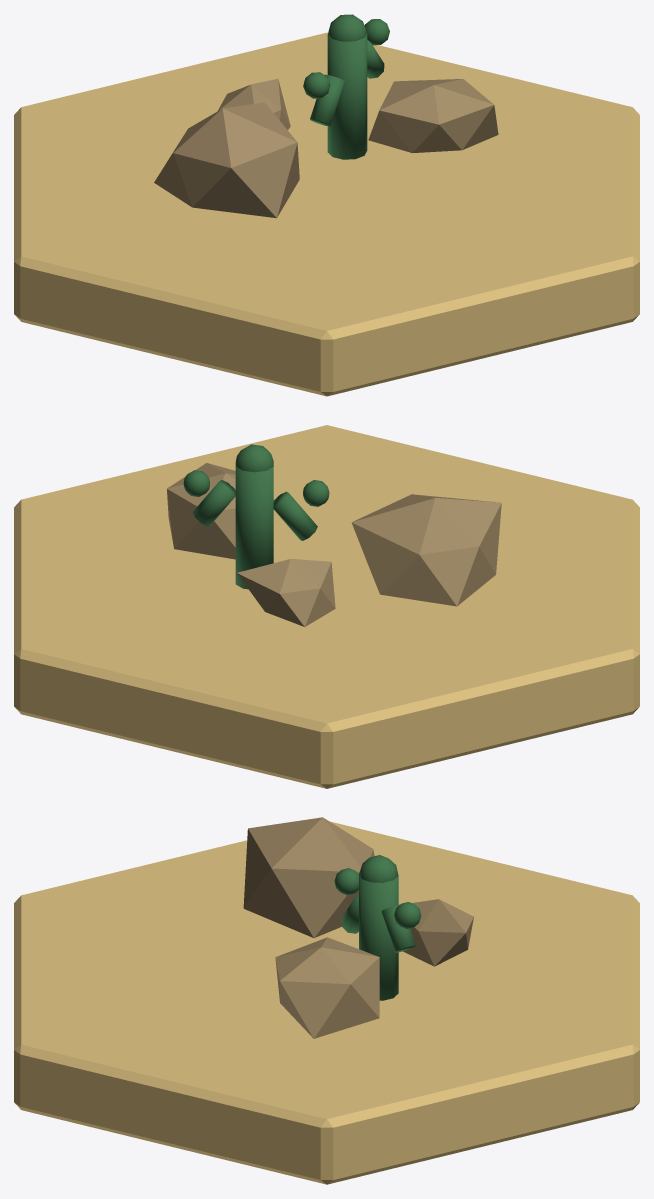
Rendered from desert.glb.
3 views of the same model, one above another, from view 1: azimuth 30°, elevation 25°; view 2: azimuth 150°, elevation 25°; view 3: azimuth 270°, elevation 25° (orthographic).
Visible parts, largest first — view 1: Hex_desert, Icosphere, Icosphere.001, Cylinder, Icosphere.002, Cylinder.001, Icosphere.003, Icosphere.004; view 2: Hex_desert, Icosphere, Icosphere.002, Icosphere.001, Cylinder, Cylinder.001, Cylinder.002, Icosphere.003, Icosphere.005, Icosphere.004; view 3: Hex_desert, Icosphere, Icosphere.001, Cylinder, Icosphere.002, Icosphere.003, Cylinder.002, Icosphere.005, Icosphere.004.
Boxes of the visible parts, x1,y1,x2,y2 form: Hex_desert: [14, 32, 639, 396]; Icosphere: [154, 102, 299, 218]; Icosphere.001: [368, 79, 498, 153]; Cylinder: [327, 33, 367, 159]; Icosphere.002: [218, 78, 290, 129]; Cylinder.001: [310, 74, 344, 126]; Icosphere.003: [327, 14, 367, 41]; Icosphere.004: [303, 72, 330, 98]; Hex_desert: [14, 425, 639, 788]; Icosphere: [351, 494, 501, 606]; Icosphere.002: [237, 559, 335, 626]; Icosphere.001: [167, 463, 235, 559]; Cylinder: [235, 466, 273, 589]; Cylinder.001: [273, 491, 317, 540]; Cylinder.002: [192, 480, 235, 526]; Icosphere.003: [235, 444, 273, 472]; Icosphere.005: [183, 470, 209, 496]; Icosphere.004: [303, 480, 329, 506]; Hex_desert: [14, 821, 639, 1184]; Icosphere: [243, 817, 374, 937]; Icosphere.001: [275, 937, 379, 1038]; Cylinder: [359, 874, 398, 1000]; Icosphere.002: [403, 899, 473, 966]; Icosphere.003: [359, 855, 398, 882]; Cylinder.002: [381, 904, 415, 952]; Icosphere.005: [394, 902, 421, 928]; Icosphere.004: [334, 868, 358, 895].
Bounding box in the file's own units: 1.98 × 0.615 × 1.73.
